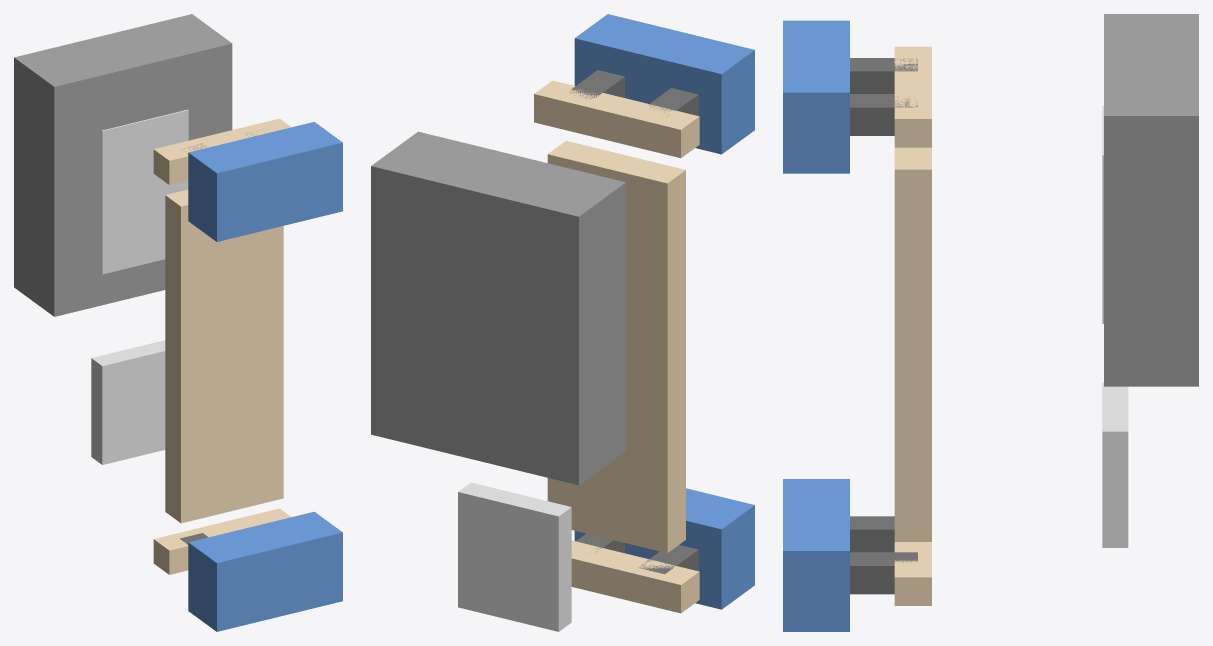
The model's file is sky130_ef_sc_hd__fakediode_2.gds.gltf.
3 renders of one model, left to right at view 1: azimuth 30°, elevation 25°; view 2: azimuth 150°, elevation 25°; view 3: azimuth 270°, elevation 25°, orthographic. The views are drawn at different scales.
Visible parts, largest first — view 1: sky130_ef_sc_hd__fakediode_2_li1, sky130_ef_sc_hd__fakediode_2_nwell, sky130_ef_sc_hd__fakediode_2_met1, sky130_ef_sc_hd__fakediode_2_diff; view 2: sky130_ef_sc_hd__fakediode_2_nwell, sky130_ef_sc_hd__fakediode_2_li1, sky130_ef_sc_hd__fakediode_2_met1, sky130_ef_sc_hd__fakediode_2_diff, sky130_ef_sc_hd__fakediode_2_mcon; view 3: sky130_ef_sc_hd__fakediode_2_nwell, sky130_ef_sc_hd__fakediode_2_li1, sky130_ef_sc_hd__fakediode_2_met1, sky130_ef_sc_hd__fakediode_2_mcon, sky130_ef_sc_hd__fakediode_2_diff.
Part boxes in pixels (left/top/right/bottom): sky130_ef_sc_hd__fakediode_2_li1: left=153, top=118, right=291, bottom=574; sky130_ef_sc_hd__fakediode_2_nwell: left=14, top=14, right=232, bottom=316; sky130_ef_sc_hd__fakediode_2_met1: left=188, top=122, right=342, bottom=631; sky130_ef_sc_hd__fakediode_2_diff: left=91, top=109, right=188, bottom=464; sky130_ef_sc_hd__fakediode_2_nwell: left=371, top=131, right=625, bottom=485; sky130_ef_sc_hd__fakediode_2_li1: left=534, top=80, right=699, bottom=613; sky130_ef_sc_hd__fakediode_2_met1: left=574, top=14, right=754, bottom=609; sky130_ef_sc_hd__fakediode_2_diff: left=458, top=482, right=571, bottom=631; sky130_ef_sc_hd__fakediode_2_mcon: left=569, top=70, right=698, bottom=574; sky130_ef_sc_hd__fakediode_2_nwell: left=1104, top=14, right=1198, bottom=386; sky130_ef_sc_hd__fakediode_2_li1: left=894, top=46, right=931, bottom=605; sky130_ef_sc_hd__fakediode_2_met1: left=783, top=20, right=849, bottom=631; sky130_ef_sc_hd__fakediode_2_mcon: left=850, top=58, right=917, bottom=594; sky130_ef_sc_hd__fakediode_2_diff: left=1102, top=106, right=1128, bottom=547.
Size of the model in its own units: 1.3 by 3.2 by 2.24.
